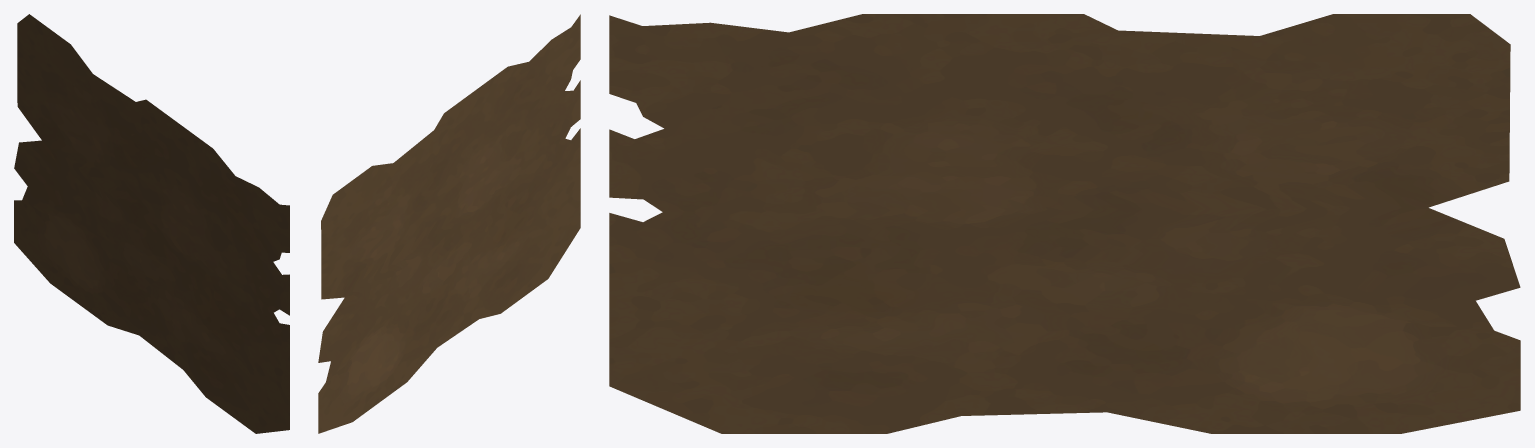
File: cartelbutton.fbx
3 renders of one model, left to right at view 1: azimuth 30°, elevation 25°; view 2: azimuth 150°, elevation 25°; view 3: azimuth 270°, elevation 25°, orthographic. The views are drawn at different scales.
Parts seen in each view (by area): view 1: Plane.001; view 2: Plane.001; view 3: Plane.001.
Part boxes in pixels (<box>): Plane.001: <box>14,14,289,433</box>; Plane.001: <box>318,14,580,433</box>; Plane.001: <box>609,14,1520,433</box>.
Bounding box in the file's own units: 7.23e-05 × 200 × 393.
